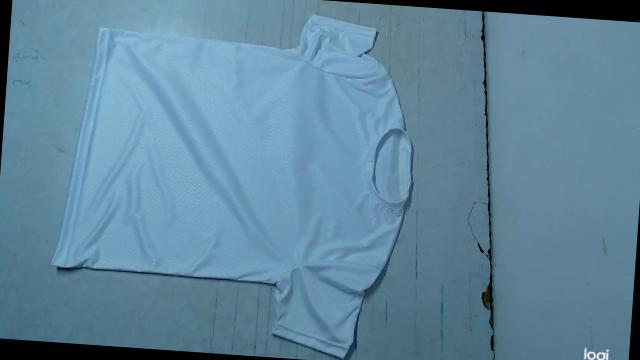new-garment: (51, 14, 411, 357)
